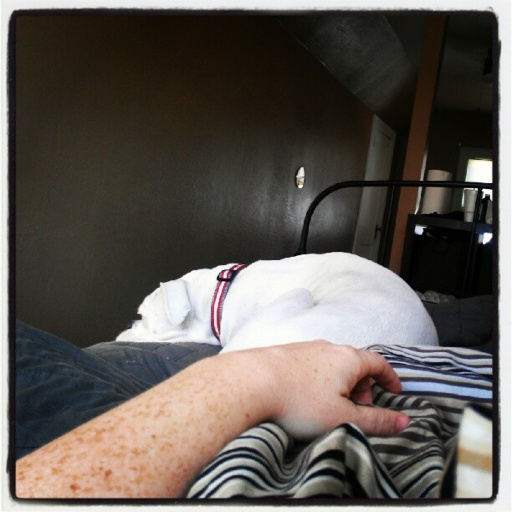hand: (241, 337, 420, 456)
